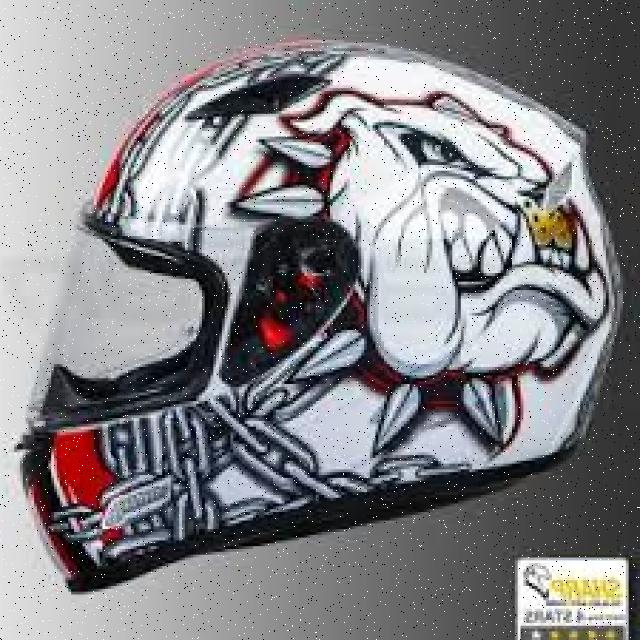Helmet: (18, 40, 624, 591)
